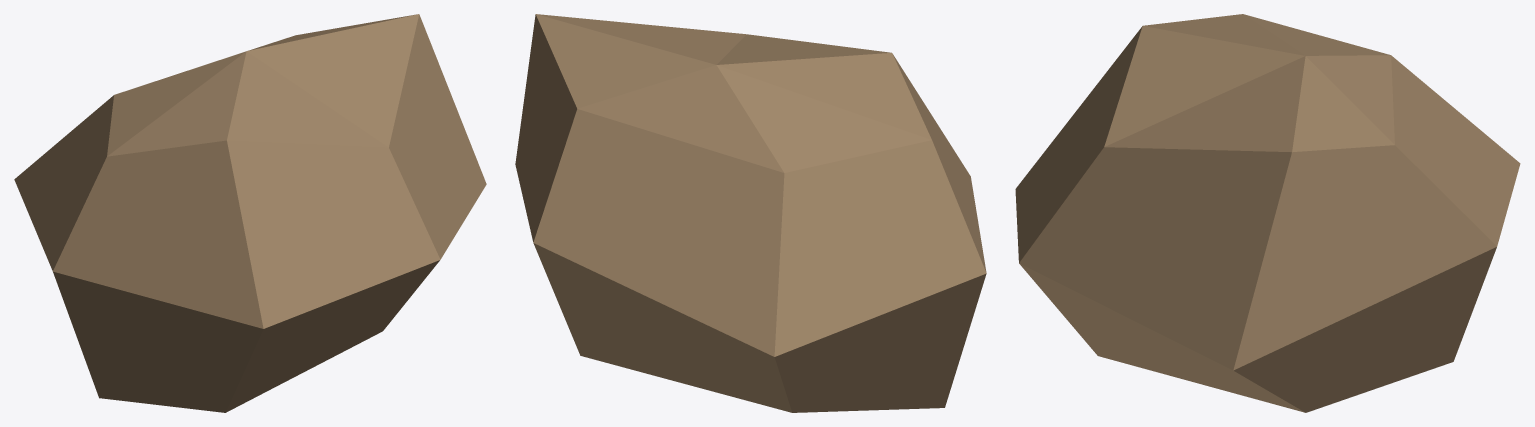
File: rock_small.glb
3 renders of one model, left to right at view 1: azimuth 30°, elevation 25°; view 2: azimuth 150°, elevation 25°; view 3: azimuth 270°, elevation 25°, orthographic. The views are drawn at different scales.
Visible parts, largest first — view 1: rock_small; view 2: rock_small; view 3: rock_small.
Part boxes in pixels (left/top/right/bottom): rock_small: left=14, top=14, right=486, bottom=412; rock_small: left=515, top=14, right=986, bottom=412; rock_small: left=1015, top=14, right=1520, bottom=412.
Size of the model in its own units: 0.2714 by 0.1837 by 0.2336.
